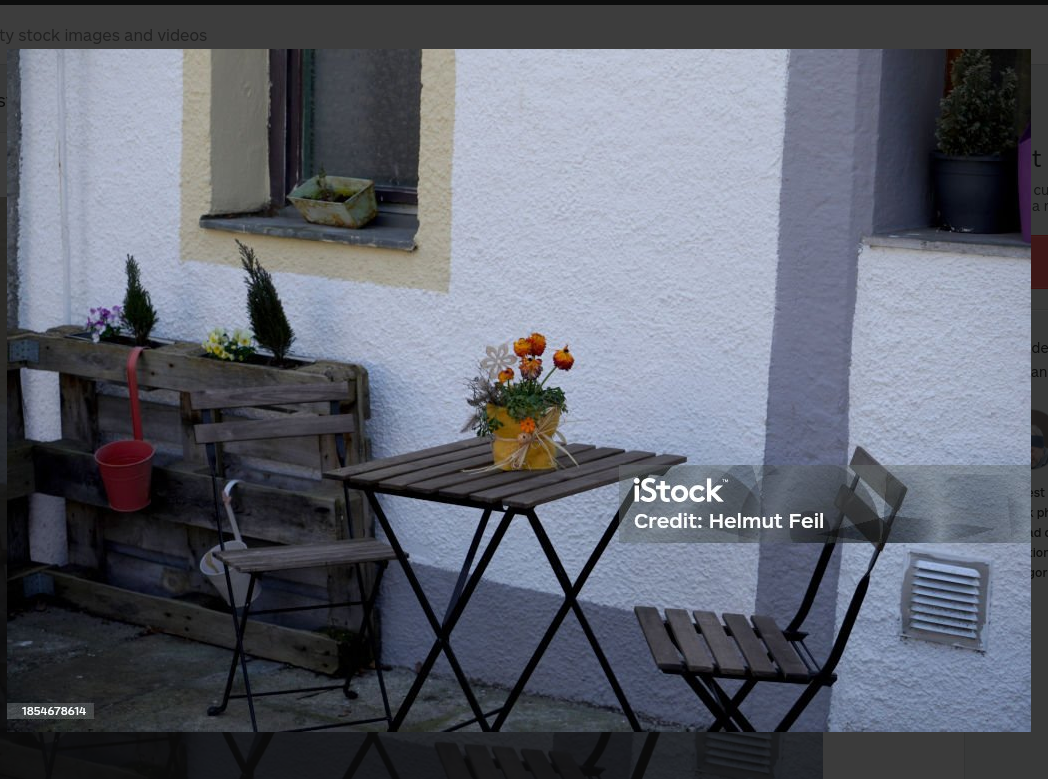obstacle: (331, 419, 686, 724), (637, 440, 910, 732), (180, 376, 410, 716), (476, 328, 575, 472)
